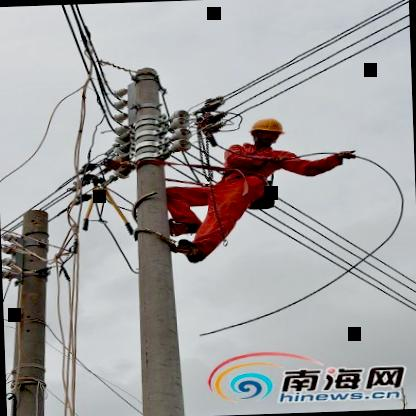helmet: (243, 115, 289, 147)
